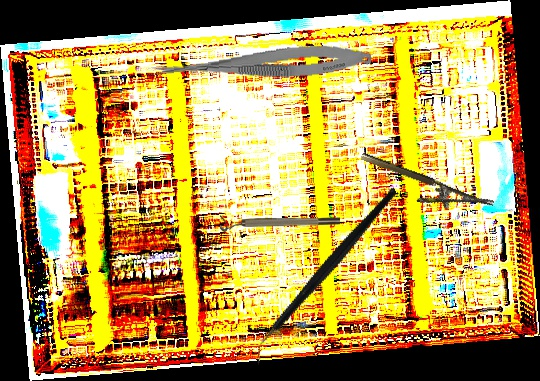Chopper: (214, 186, 438, 366)
Fixation Ring: (220, 215, 340, 232)
Micro Scissor: (147, 40, 372, 91)
Needle Holder: (353, 150, 495, 228)
